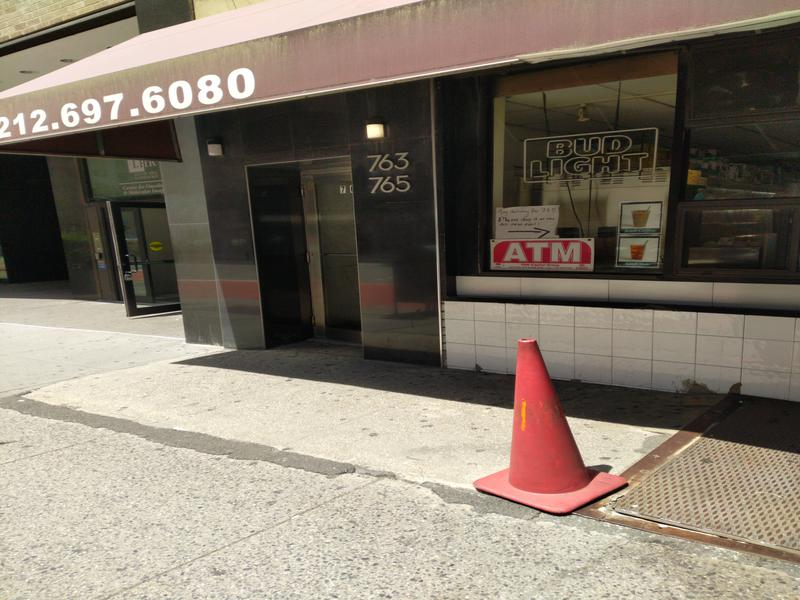door: (295, 165, 375, 347), (102, 192, 197, 319)
